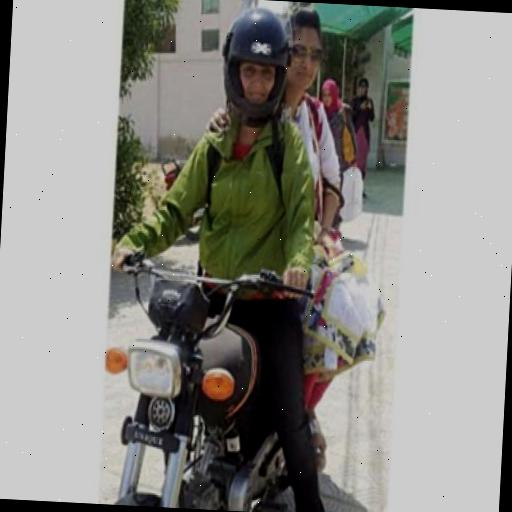helmet: (102, 0, 339, 506)
